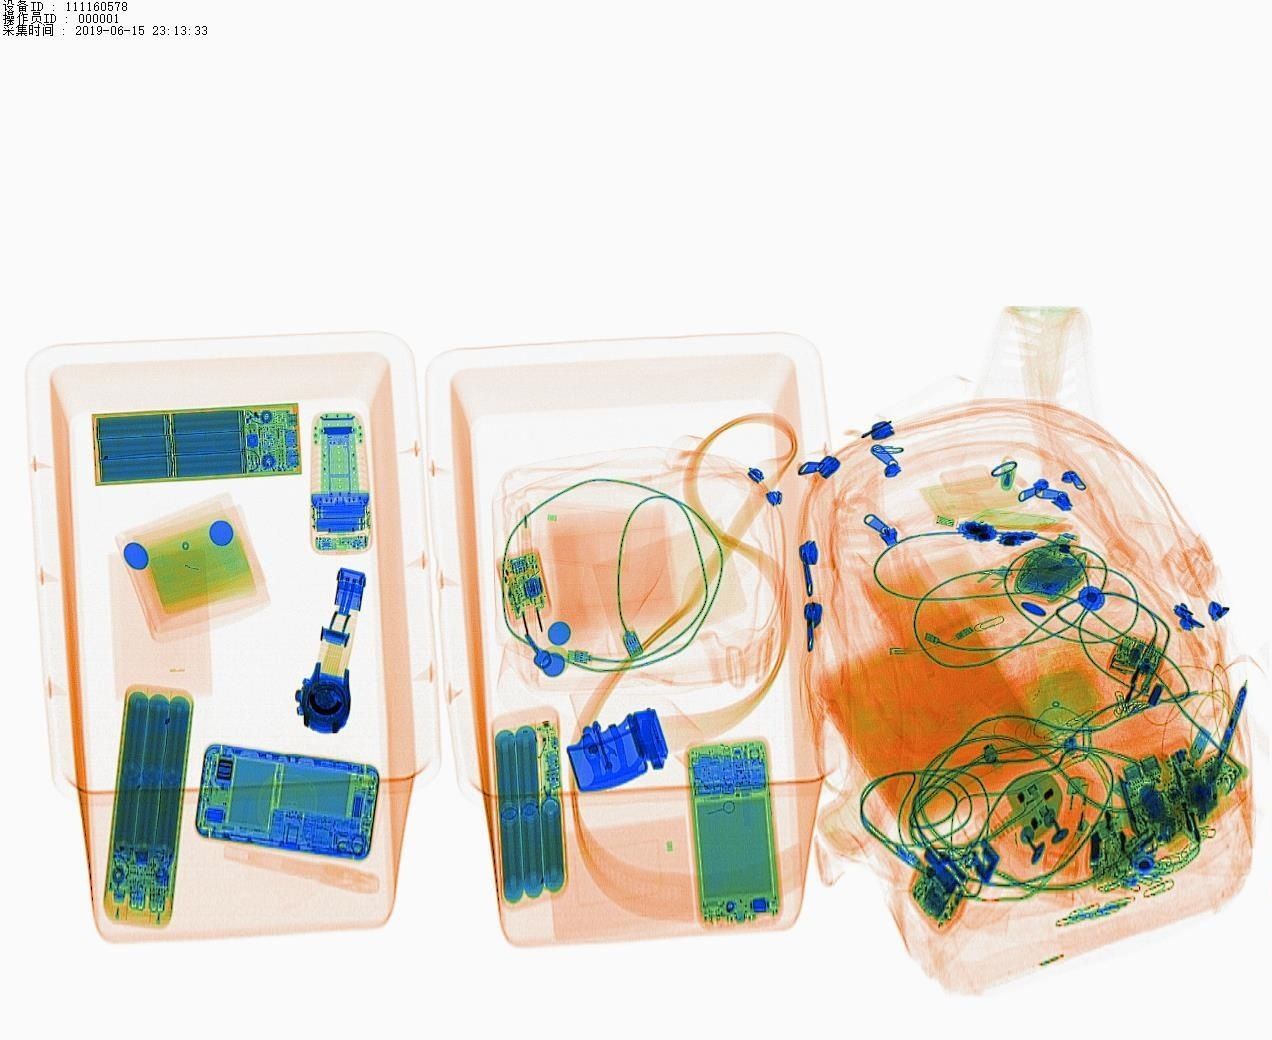NonmetallicFire: (1041, 750, 1111, 906)
